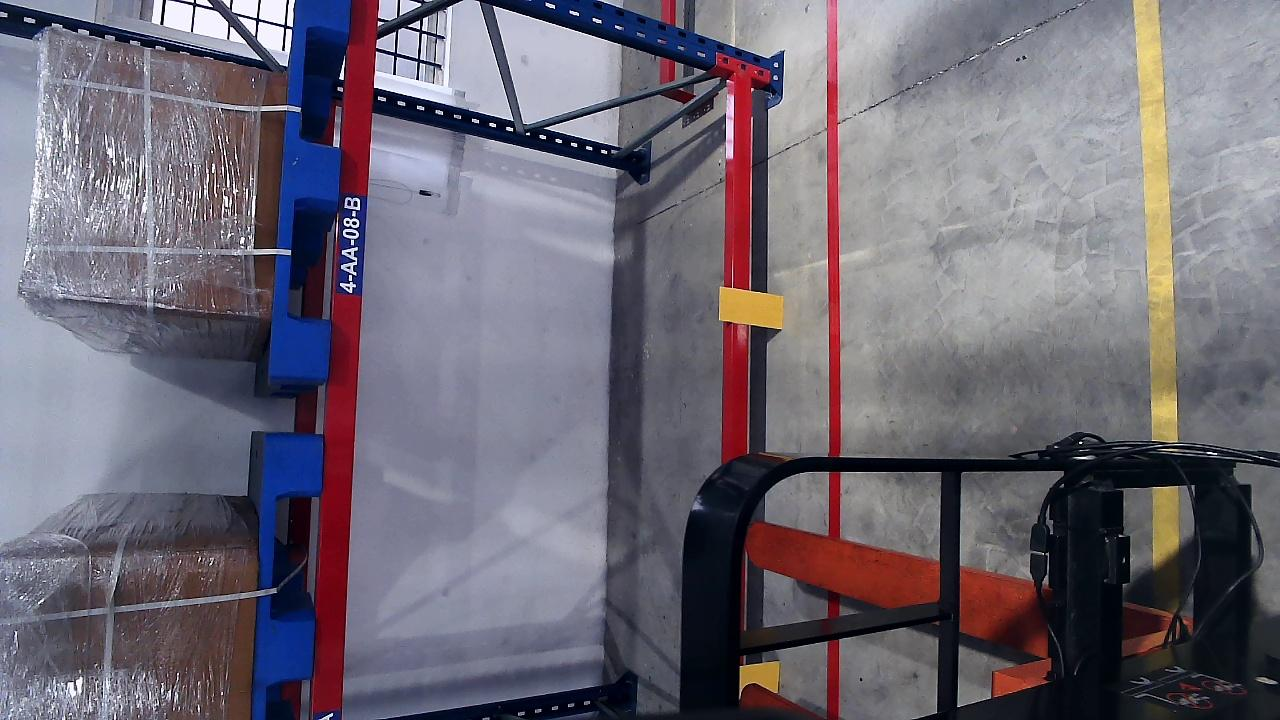h_rack: (335, 0, 380, 641), (726, 74, 757, 458)
orange_strip: (719, 285, 784, 328), (739, 660, 780, 691)
red_line: (822, 12, 844, 421)
small_pallet: (275, 0, 352, 382), (250, 435, 325, 720)
yellow_line: (1133, 0, 1181, 440)
